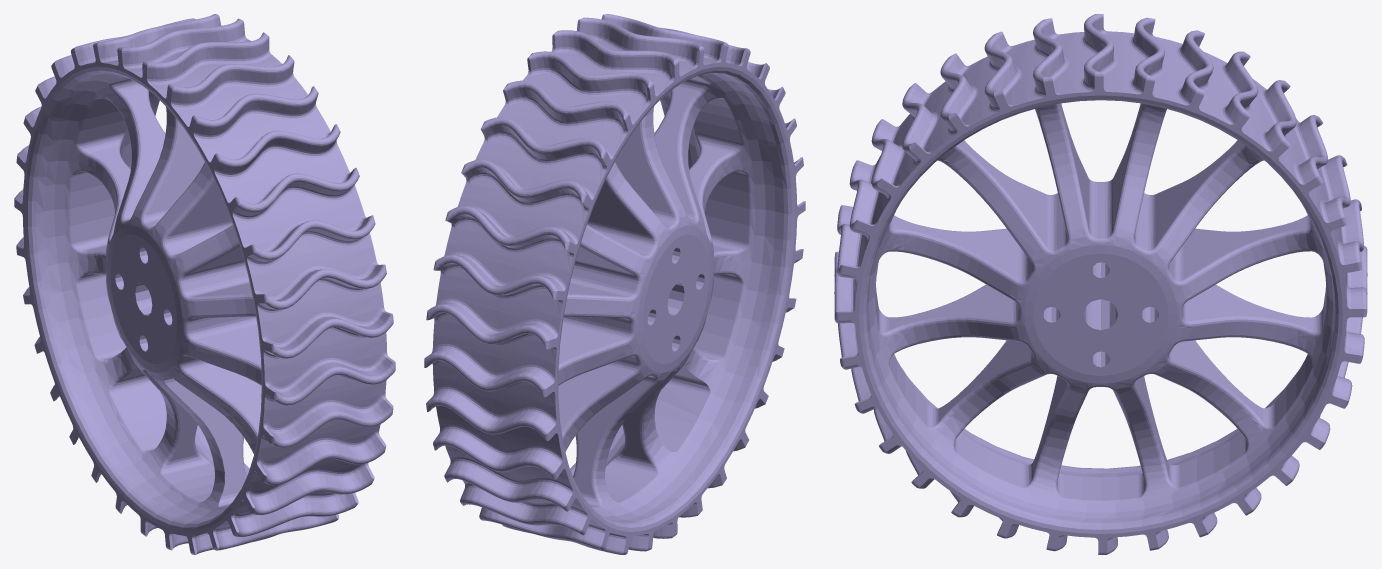
Rendered from back-left-wheel.glb.
3 renders of one model, left to right at view 1: azimuth 30°, elevation 25°; view 2: azimuth 150°, elevation 25°; view 3: azimuth 270°, elevation 25°, orthographic.
Parts seen in each view (by area): view 1: Back Left Wheel; view 2: Back Left Wheel; view 3: Back Left Wheel.
Boxes of the visible parts, <box> form: Back Left Wheel: <box>14,14,395,554</box>; Back Left Wheel: <box>424,14,805,554</box>; Back Left Wheel: <box>834,14,1367,554</box>.
Bounding box in the file's own units: 0.035 × 0.13 × 0.13.
